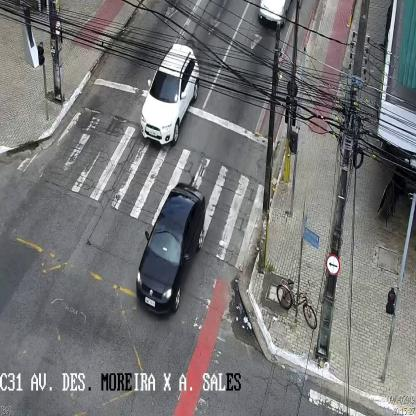bicycle: (277, 277, 316, 331)
car: (137, 182, 206, 315), (140, 43, 198, 147), (259, 0, 295, 26)
